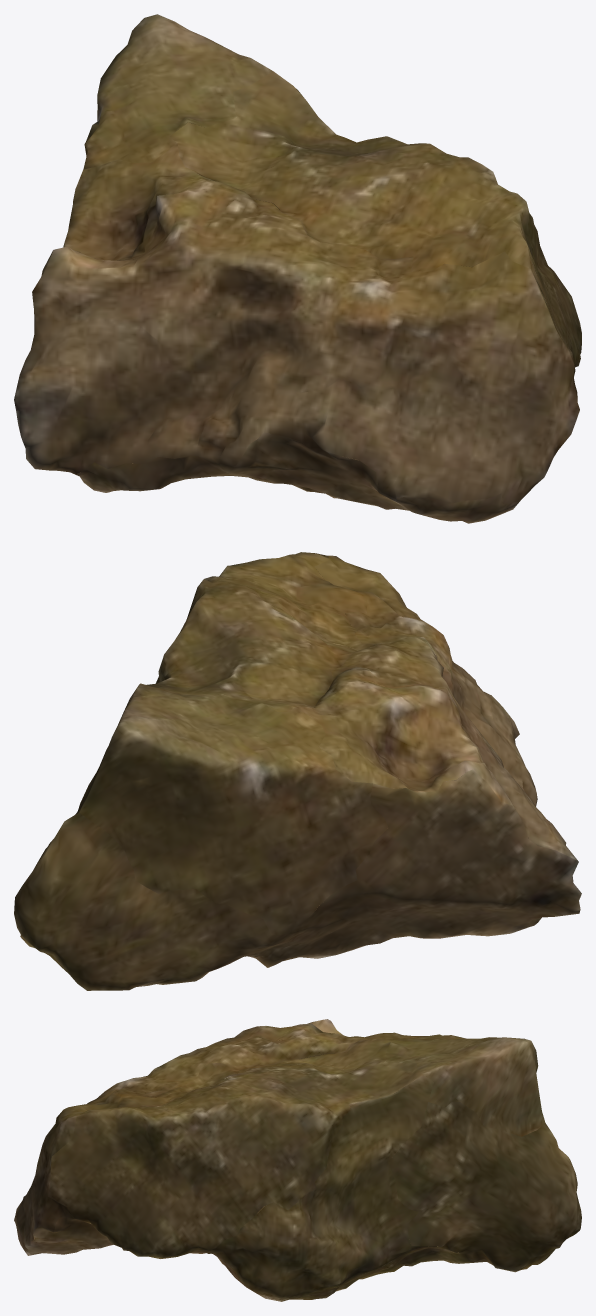
File: cc0_moss_rock_b.glb
3 renders of one model, top to bottom at view 1: azimuth 30°, elevation 25°; view 2: azimuth 150°, elevation 25°; view 3: azimuth 270°, elevation 25°, orthographic. The views are drawn at different scales.
Parts seen in each view (by area): view 1: cc0_moss_rock_b; view 2: cc0_moss_rock_b; view 3: cc0_moss_rock_b.
Boxes of the visible parts, x1,y1,x2,y2 form: cc0_moss_rock_b: (14, 14, 581, 523); cc0_moss_rock_b: (14, 552, 581, 990); cc0_moss_rock_b: (14, 1019, 581, 1301).
Bounding box in the file's own units: 0.7228 × 0.429 × 0.9377.
Materials: 1 (1 with a texture image).
